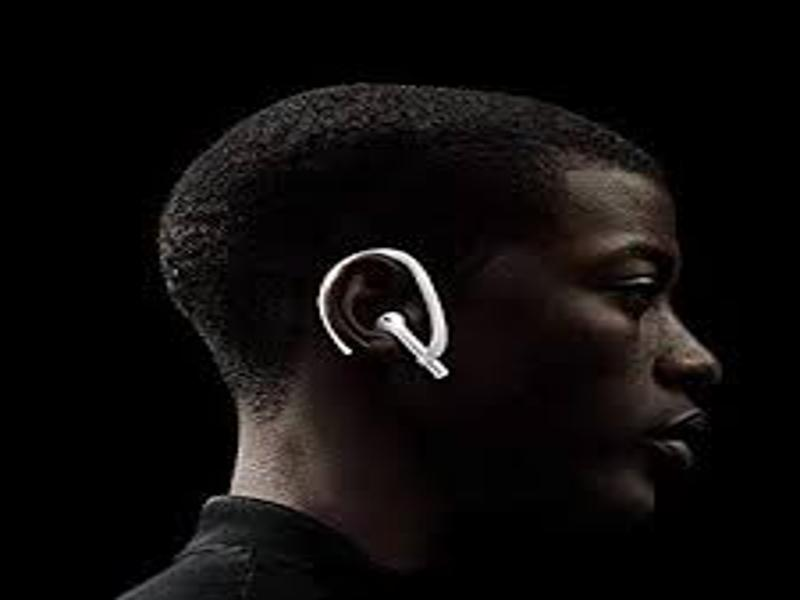headphone: (375, 311, 448, 378)
